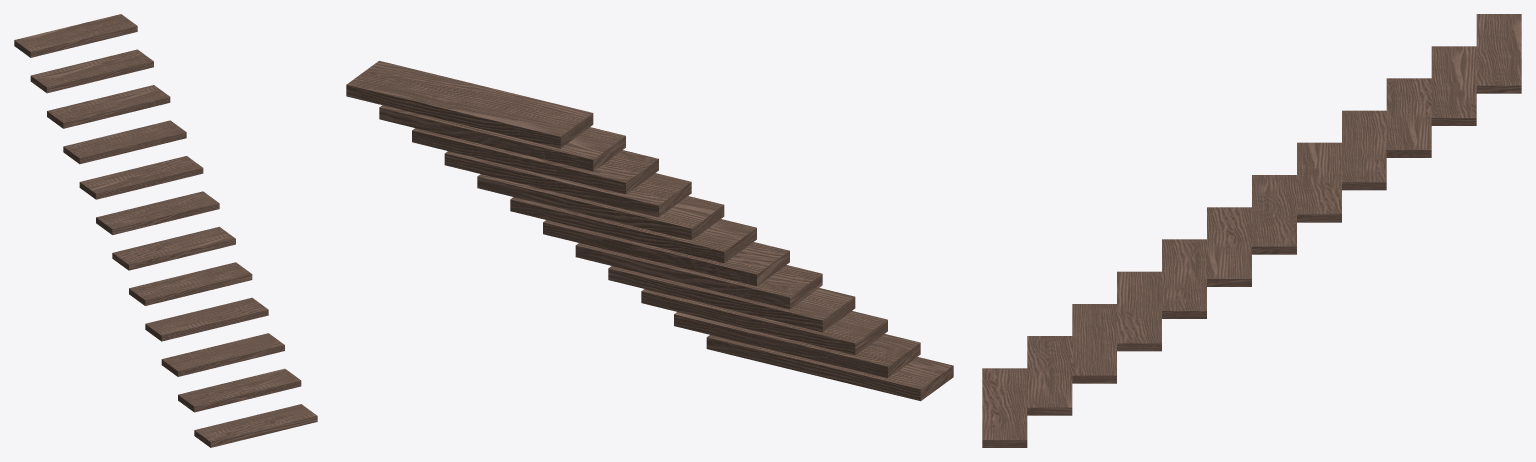
File: ladder_015.fbx
3 renders of one model, left to right at view 1: azimuth 30°, elevation 25°; view 2: azimuth 150°, elevation 25°; view 3: azimuth 270°, elevation 25°, orthographic. The views are drawn at different scales.
Parts seen in each view (by area): view 1: ladder_015; view 2: ladder_015; view 3: ladder_015.
Part boxes in pixels (x1,y1,x2,y2): ladder_015: (14,14,317,447); ladder_015: (346,60,953,401); ladder_015: (982,14,1521,447).
Size of the model in its own units: 160 by 508 by 377.
